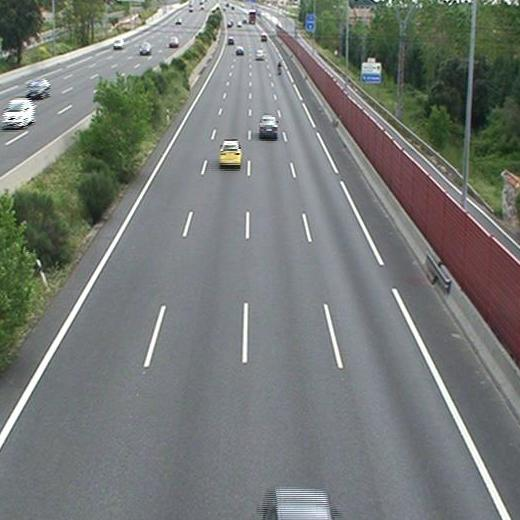car: (219, 141, 242, 166), (259, 115, 279, 137), (255, 49, 266, 60), (235, 46, 245, 55)
motorcycle: (275, 58, 283, 76)
